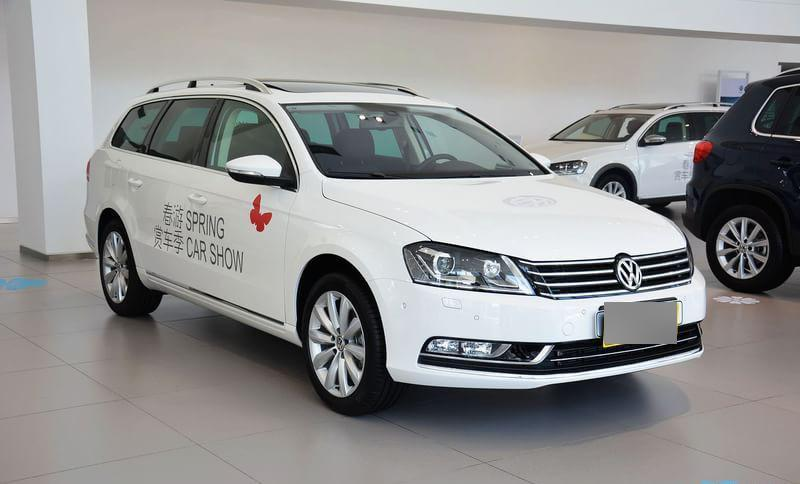Wagon: (82, 75, 709, 417)
